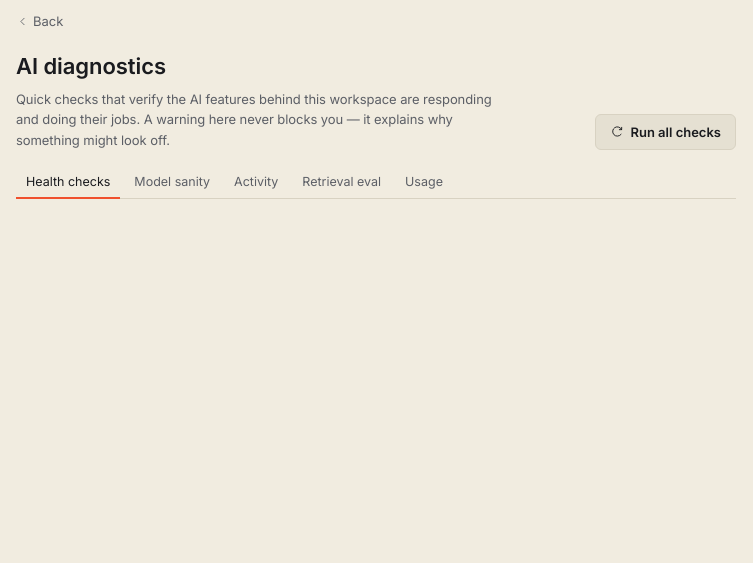
Scenario: DiagnosticsPage — tool usage › offers a superuser the tool-usage tab, which opens the report
The width and height of the screenshot is (753, 563).
Click the tab "Usage".
click(424, 182)  # box [395,166,453,199]
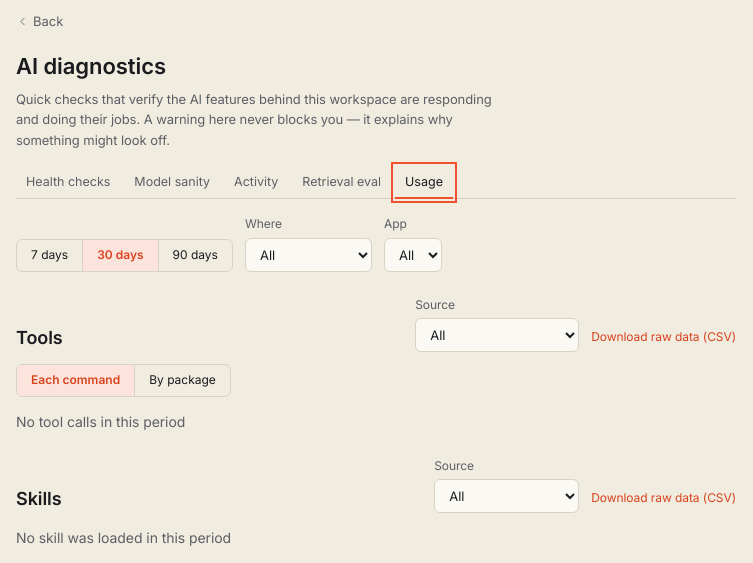
Result: the text "No tool calls in this period" is shown at [16,413,185,430]
